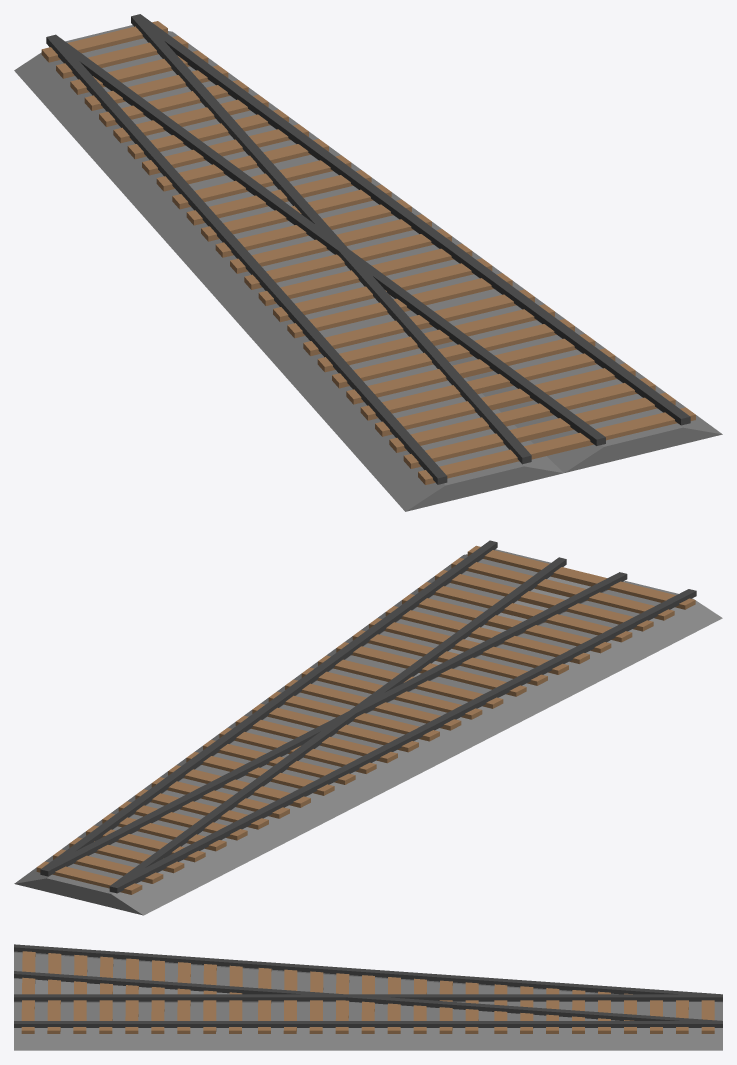
Rendered from west_huoche01.FBX.
The picture shows the model from 3 angles, top to bottom: view 1: azimuth 30°, elevation 25°; view 2: azimuth 150°, elevation 25°; view 3: azimuth 270°, elevation 25°; orthographic projection. The views are drawn at different scales.
Parts seen in each view (by area): view 1: west_huoche01; view 2: west_huoche01; view 3: west_huoche01.
Boxes of the visible parts, box(x1,y1,x2,y2) form: west_huoche01: box(14, 14, 722, 511); west_huoche01: box(14, 540, 722, 915); west_huoche01: box(14, 944, 722, 1050).
Bounding box in the file's own units: 2443 × 189 × 7328.
